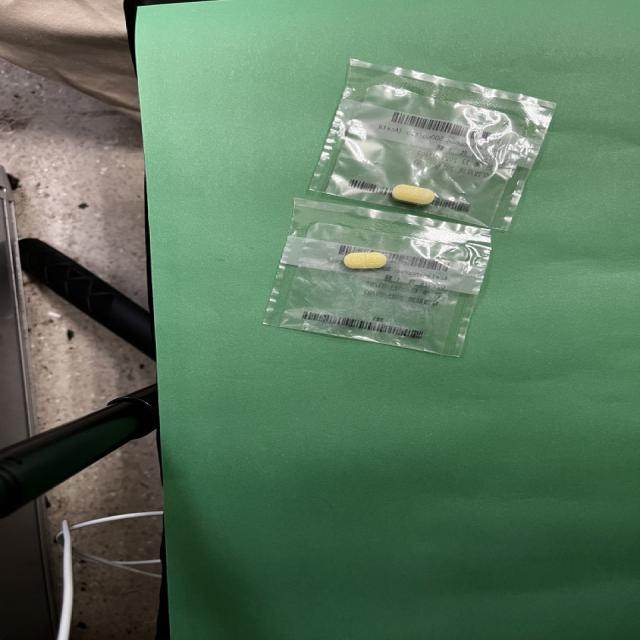Other Objects: (309, 59, 555, 230), (263, 198, 491, 356)
